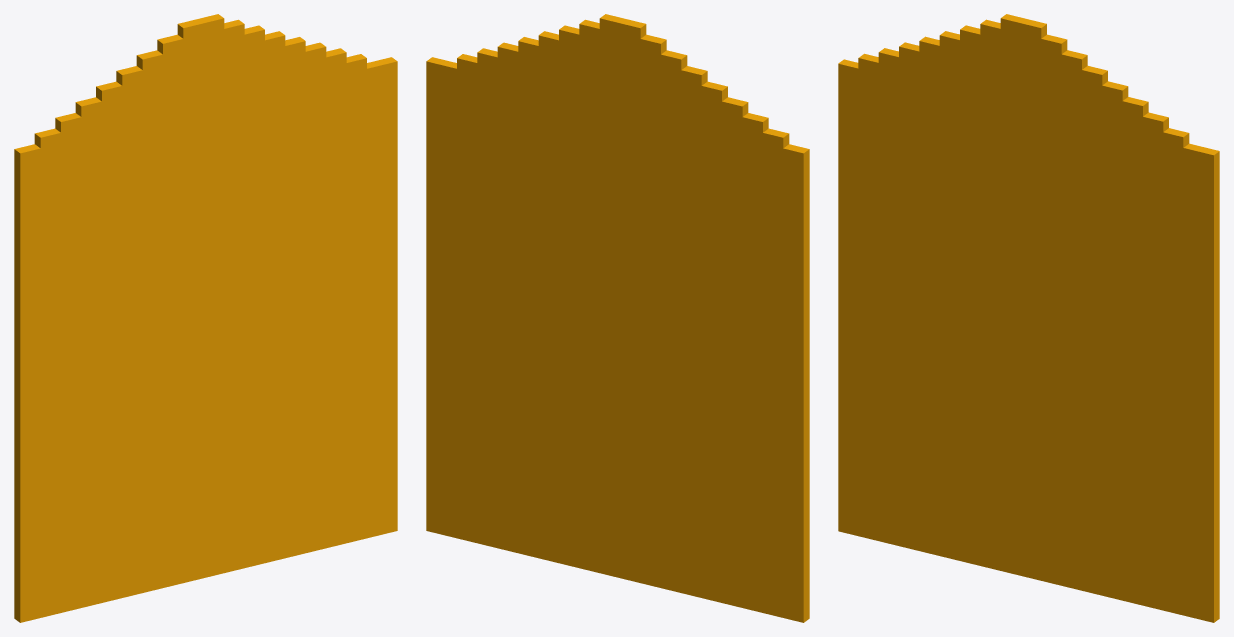
File: Porta Igreja.obj
3 views of the same model, side by side, from view 1: azimuth 30°, elevation 25°; view 2: azimuth 150°, elevation 25°; view 3: azimuth 330°, elevation 25° (orthographic).
Bounding box in the file's own units: 3.7 × 5.2 × 0.1.
Materials: 1 (1 with a texture image).
